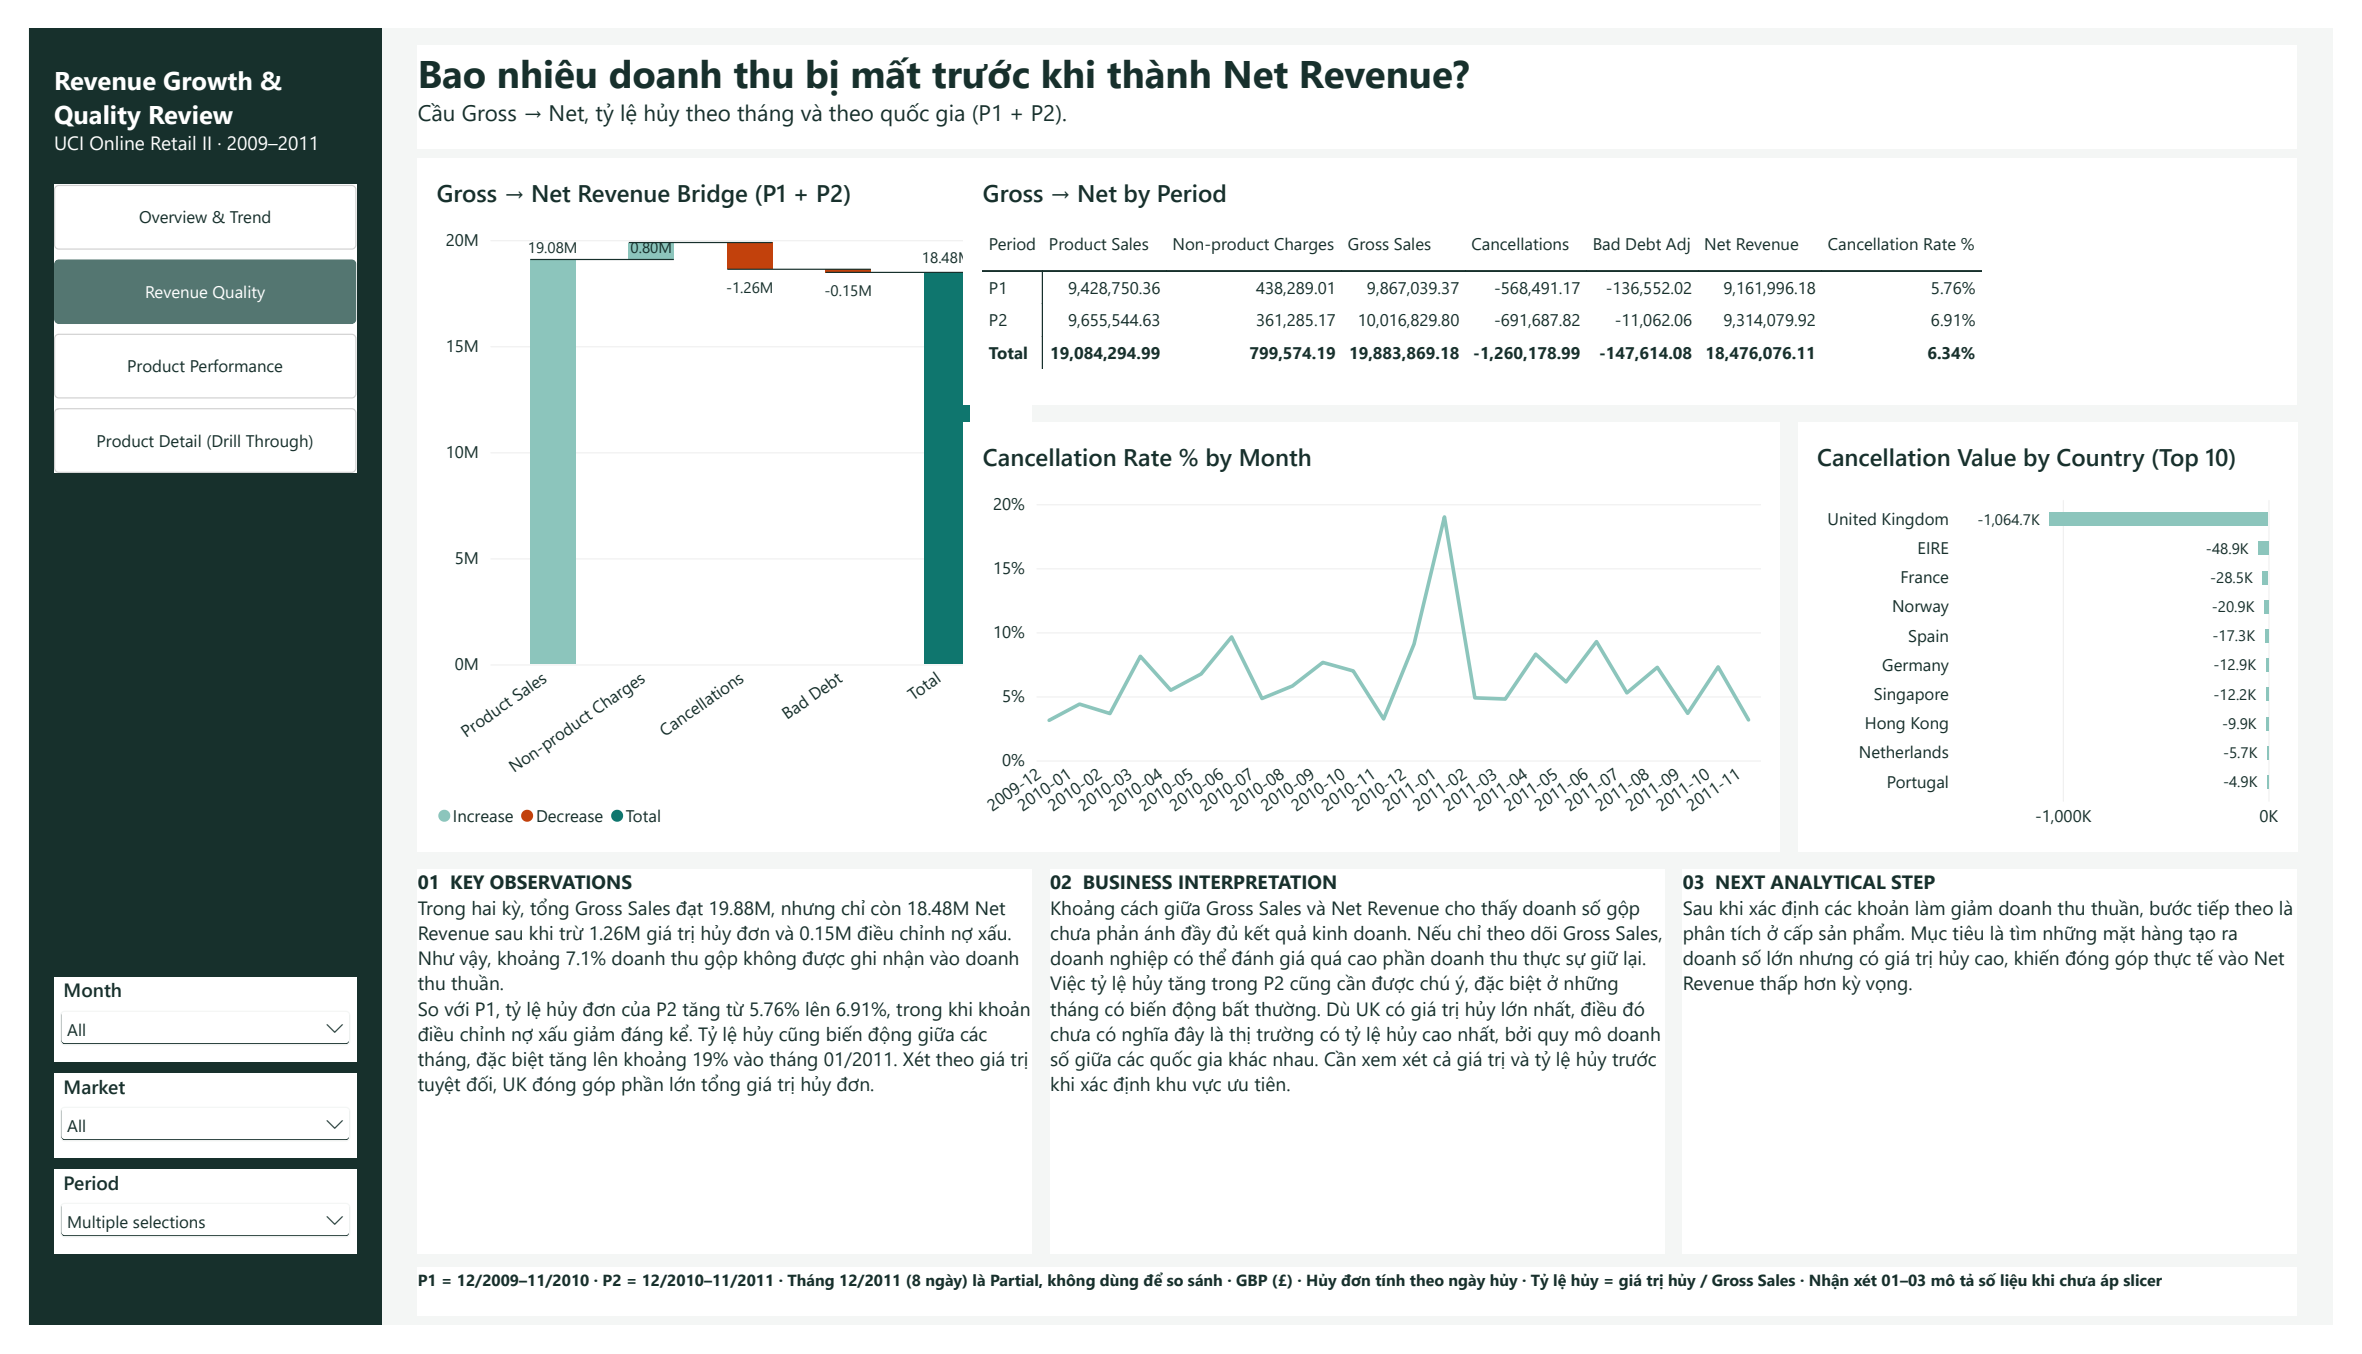

The dashboard page shown, as its layout file describes it:
{"tool":"powerbi","page":{"name":"Revenue Quality","canvas":[1920,1080],"ordinal":1},"visuals":[{"type":"shape","box":[0,0,294,1080],"z":0},{"type":"waterfallChart","title":"Gross → Net Revenue Bridge (P1 + P2)","fields":{"Category":["core fact_invoice_line.Bridge Step"],"Y":["_Measures.Net Revenue"]},"box":[324,108,512,578],"z":1000},{"type":"lineChart","title":"Cancellation Rate % by Month","fields":{"Category":["core dim_date.year_month"],"Y":["_Measures.Cancellation Rate %"]},"box":[779,328,680,358],"z":2000},{"type":"clusteredBarChart","title":"Cancellation Value by Country (Top 10)","fields":{"Category":["core fact_invoice_line.country"],"Y":["_Measures.Cancellations"]},"box":[1474,328,416,358],"z":3000},{"type":"pivotTable","title":"Gross → Net by Period","fields":{"Rows":["core dim_date.period_label"],"Values":["_Measures.Product Sales","_Measures.Non-product Charges","_Measures.Gross Sales","_Measures.Cancellations","_Measures.Bad Debt Adj","_Measures.Net Revenue","_Measures.Cancellation Rate %"]},"box":[779,108,1111,205],"z":4000},{"type":"slicer","fields":{"Values":["core dim_date.month_name"]},"box":[21,790,252,70],"z":5000},{"type":"slicer","fields":{"Values":["core fact_invoice_line.Market"]},"box":[21,870,252,70],"z":6000},{"type":"slicer","fields":{"Values":["core dim_date.period_label"]},"box":[21,950,252,70],"z":7000},{"type":"textbox","box":[324,14,1566,86],"z":8000},{"type":"pageNavigator","box":[21,130,252,240],"z":9000},{"type":"textbox","box":[324,700,512,320],"z":10000},{"type":"textbox","box":[851,700,512,320],"z":11000},{"type":"textbox","box":[1378,700,512,320],"z":12000},{"type":"textbox","box":[324,1032,1566,40],"z":13000},{"type":"textbox","box":[21,28,252,80],"z":14000}]}

Visuals, with their boxes on the page's 1920x1080 design canvas (x1, y1, x2, y2). These are canvas units, not pixel positions in the 2362x1354 screenshot, which may show the page scaled, cropped or inside an application window:
shape: crop(0, 0, 294, 1080)
"Gross → Net Revenue Bridge (P1 + P2)" waterfallChart: crop(324, 108, 836, 686)
"Cancellation Rate % by Month" lineChart: crop(779, 328, 1459, 686)
"Cancellation Value by Country (Top 10)" clusteredBarChart: crop(1474, 328, 1890, 686)
"Gross → Net by Period" pivotTable: crop(779, 108, 1890, 313)
slicer - core dim_date.month_name: crop(21, 790, 273, 860)
slicer - core fact_invoice_line.Market: crop(21, 870, 273, 940)
slicer - core dim_date.period_label: crop(21, 950, 273, 1020)
textbox: crop(324, 14, 1890, 100)
pageNavigator: crop(21, 130, 273, 370)
textbox: crop(324, 700, 836, 1020)
textbox: crop(851, 700, 1363, 1020)
textbox: crop(1378, 700, 1890, 1020)
textbox: crop(324, 1032, 1890, 1072)
textbox: crop(21, 28, 273, 108)
